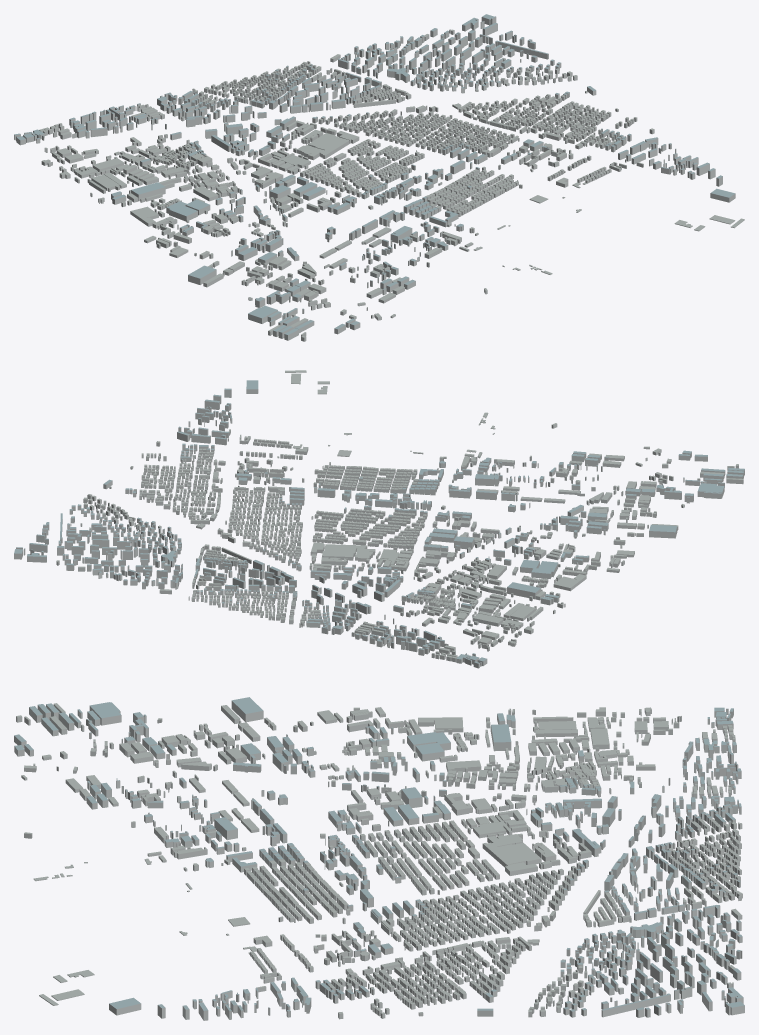
3 renders of one model, top to bottom at view 1: azimuth 30°, elevation 25°; view 2: azimuth 150°, elevation 25°; view 3: azimuth 270°, elevation 25°, orthographic. The views are drawn at different scales.
Parts seen in each view (by area): view 1: 上海全域建筑分块 · mapped building neighborhood; view 2: 上海全域建筑分块 · mapped building neighborhood; view 3: 上海全域建筑分块 · mapped building neighborhood.
Part boxes in pixels (x1,y1,x2,y2): 上海全域建筑分块 · mapped building neighborhood: (14, 14, 744, 341); 上海全域建筑分块 · mapped building neighborhood: (14, 370, 744, 668); 上海全域建筑分块 · mapped building neighborhood: (14, 697, 744, 1020).
Bounding box in the file's own units: 2163 × 36.01 × 2118.
